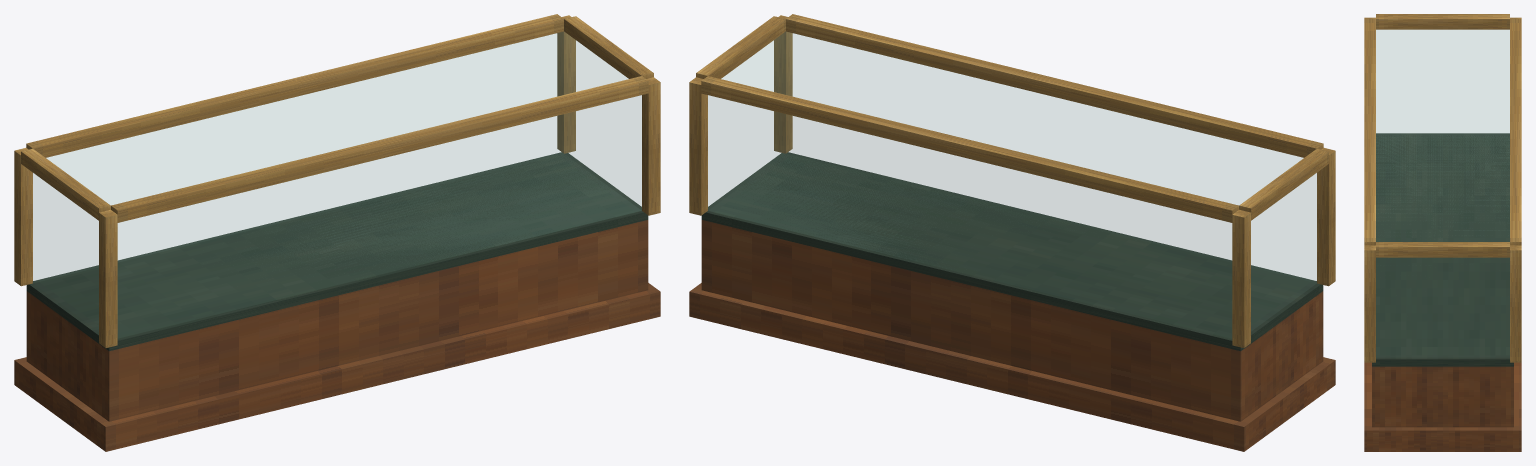
Rendered from display_case.obj.
3 renders of one model, left to right at view 1: azimuth 30°, elevation 25°; view 2: azimuth 150°, elevation 25°; view 3: azimuth 270°, elevation 25°, orthographic. The views are drawn at different scales.
Size of the model in its own units: 2.8 by 1.15 by 0.8.
